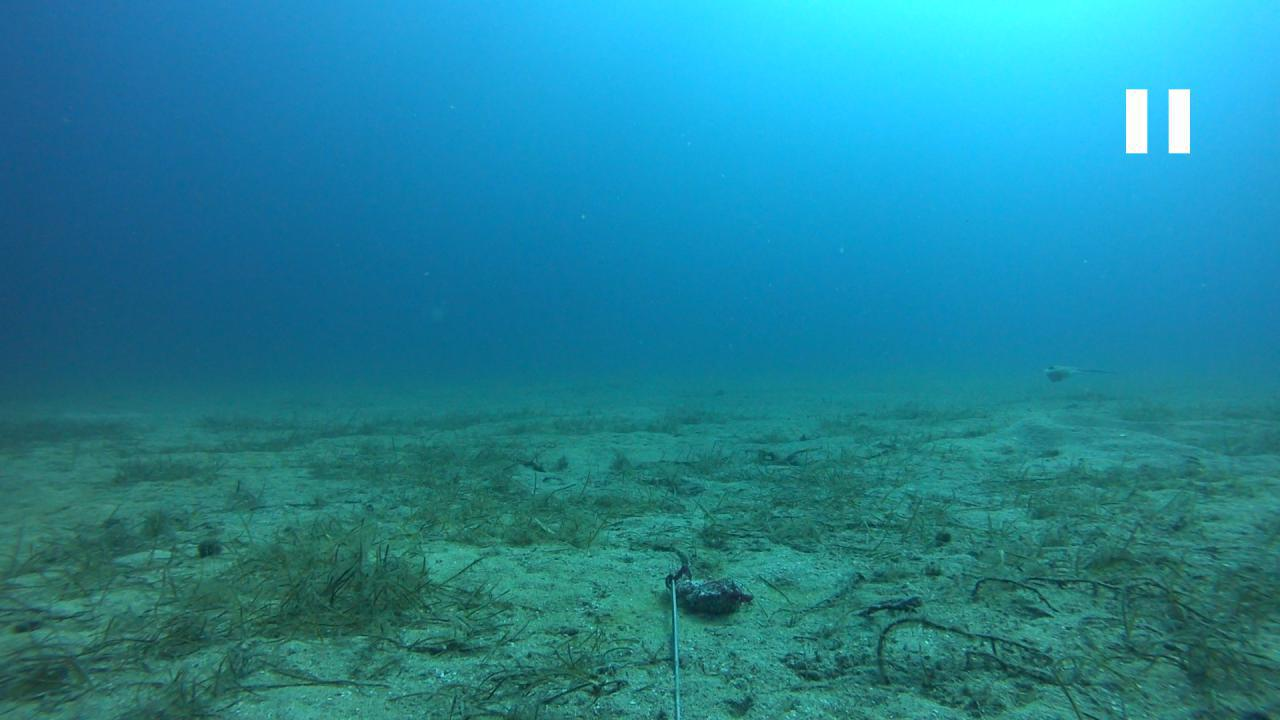dasyatis: (1042, 363, 1114, 384)
